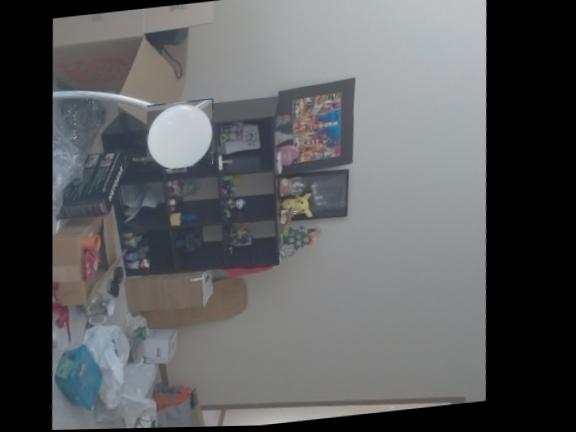Fan: (144, 98, 221, 171)
